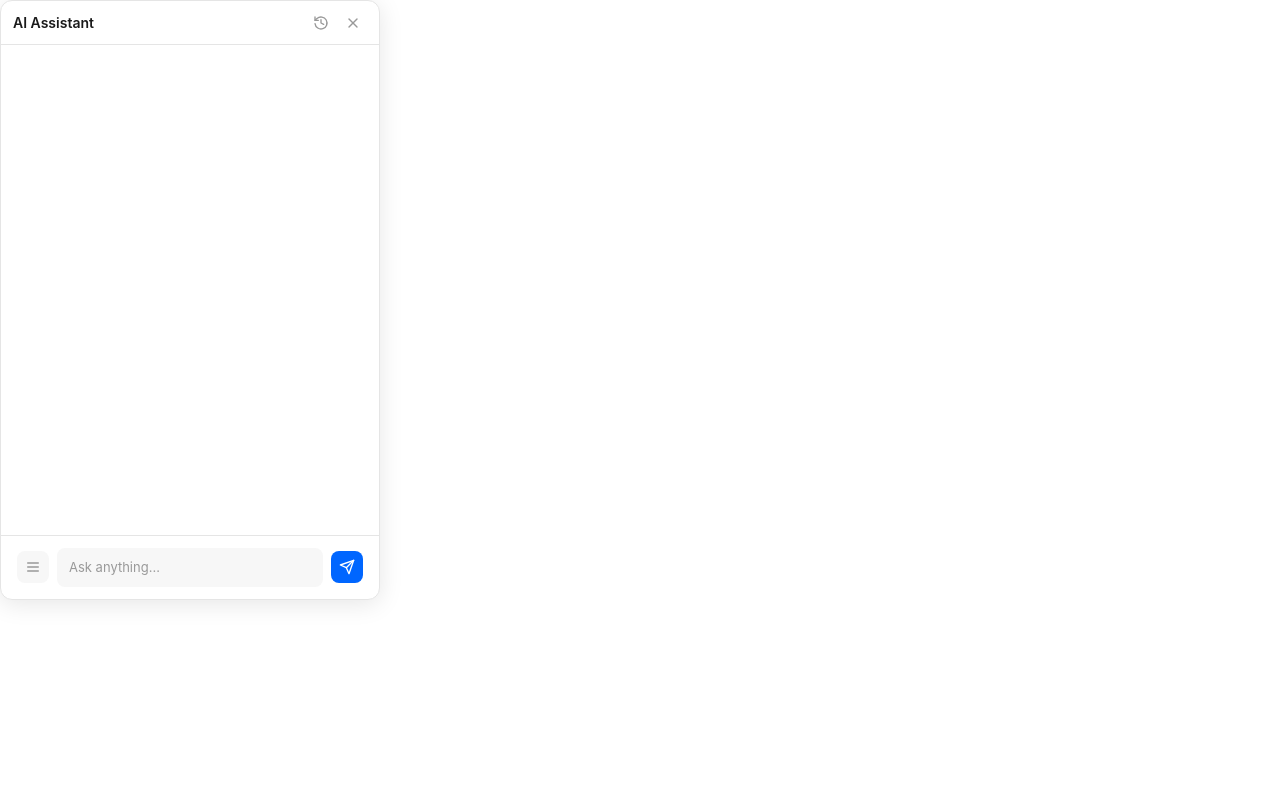
Test case: AIChatPanel › rendering › shows stop button instead of send button while streaming
Expected: the button with class "send-btn" is shown, [331,551,363,583]
# Type text and send to trigger streaming
In the text box with class "chat-input": (190, 567) [57,548,323,587], type "hello"
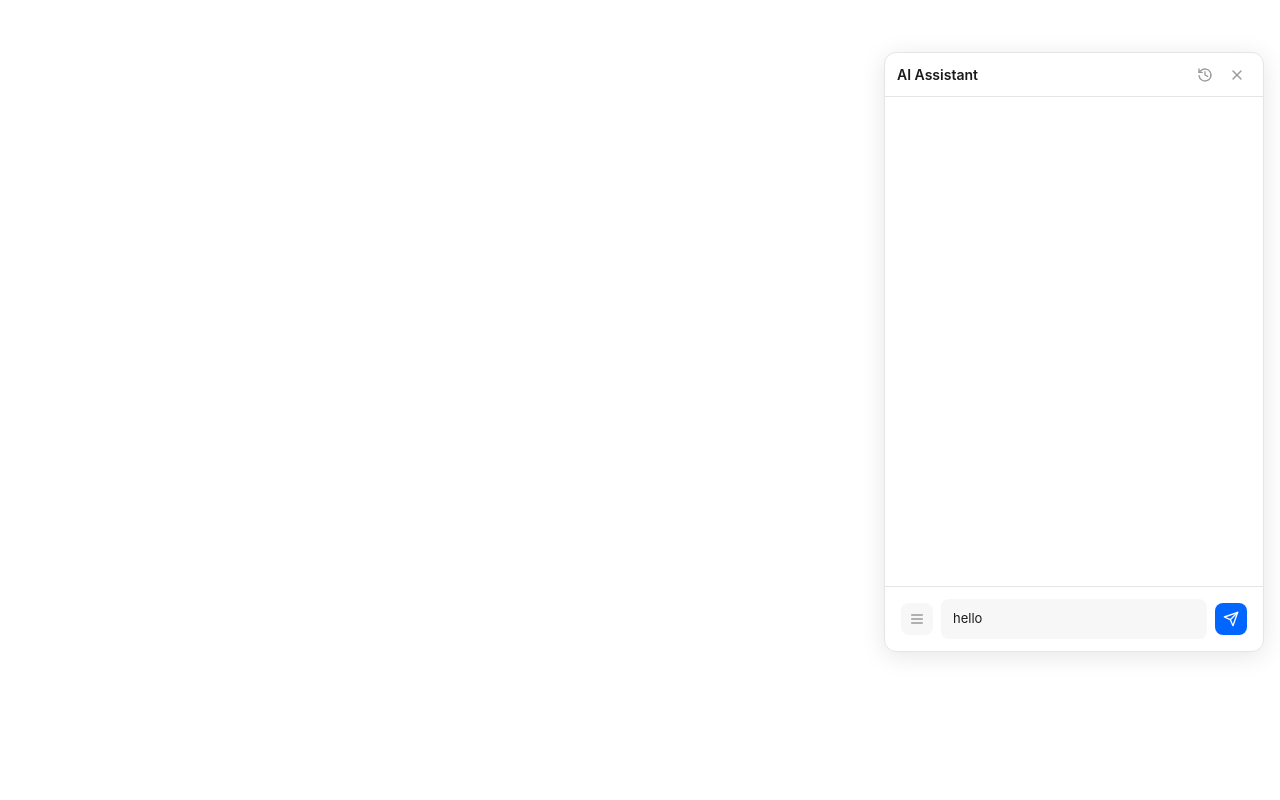
Click the button with class "send-btn": (1231, 619) [1215,603,1247,635]
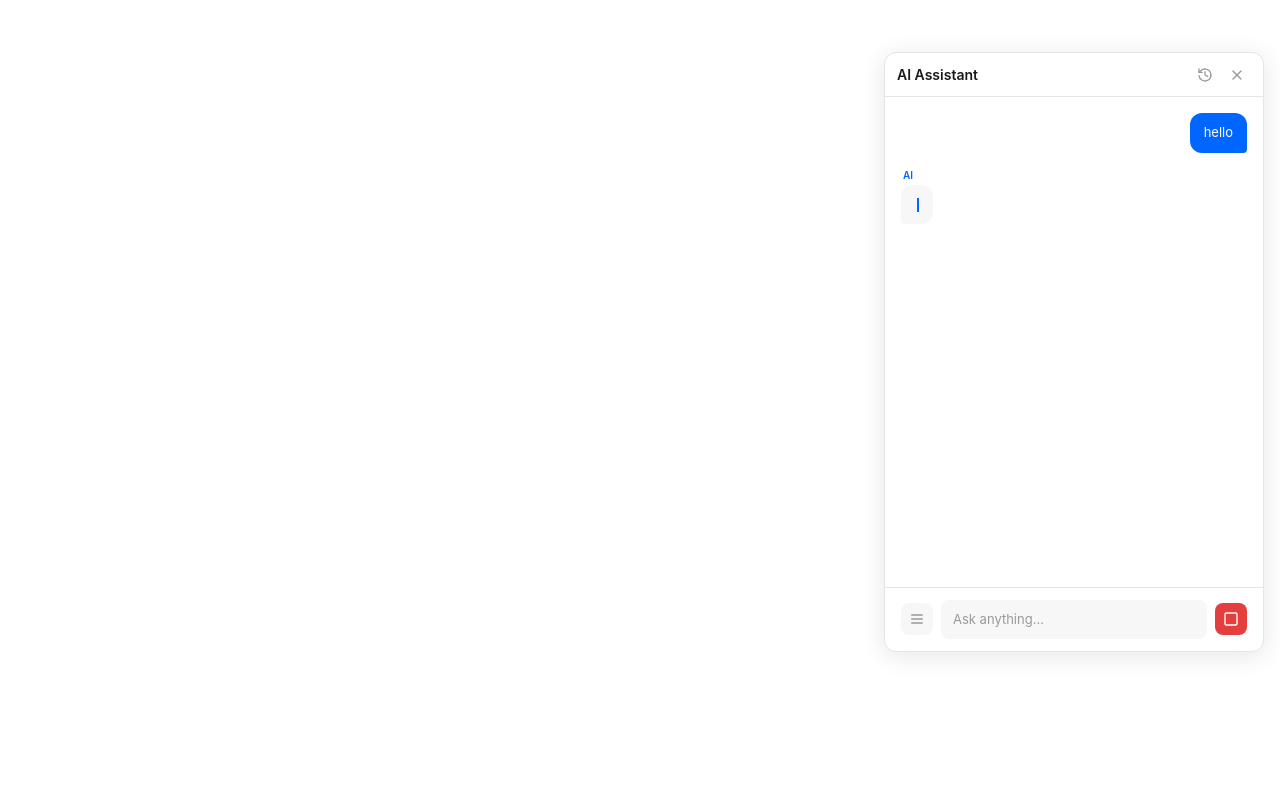
Expected: the button with class "stop-btn" is shown, [1215,603,1247,635]
